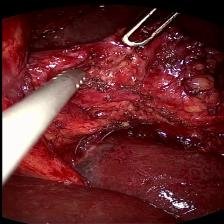Grasper: (112, 9, 184, 49)
Irrigator: (38, 66, 97, 99)
